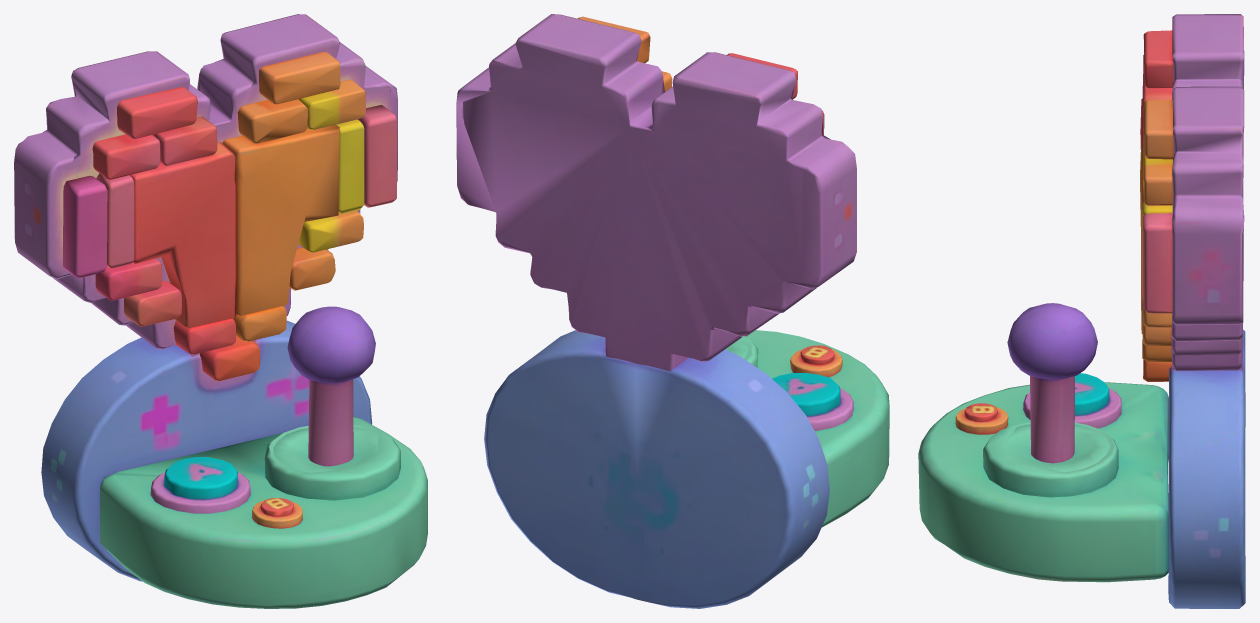
The model's file is arcade-neon-joystick.glb.
3 renders of one model, left to right at view 1: azimuth 30°, elevation 25°; view 2: azimuth 150°, elevation 25°; view 3: azimuth 270°, elevation 25°, orthographic. The views are drawn at different scales.
Parts seen in each view (by area): view 1: geometry_0; view 2: geometry_0; view 3: geometry_0.
Boxes of the visible parts, bbox=[...] form: geometry_0: bbox=[14, 14, 427, 608]; geometry_0: bbox=[456, 14, 889, 608]; geometry_0: bbox=[918, 14, 1245, 608].
Bounding box in the file's own units: 0.7209 × 1 × 0.5778.
Materials: 1 (1 with a texture image).
